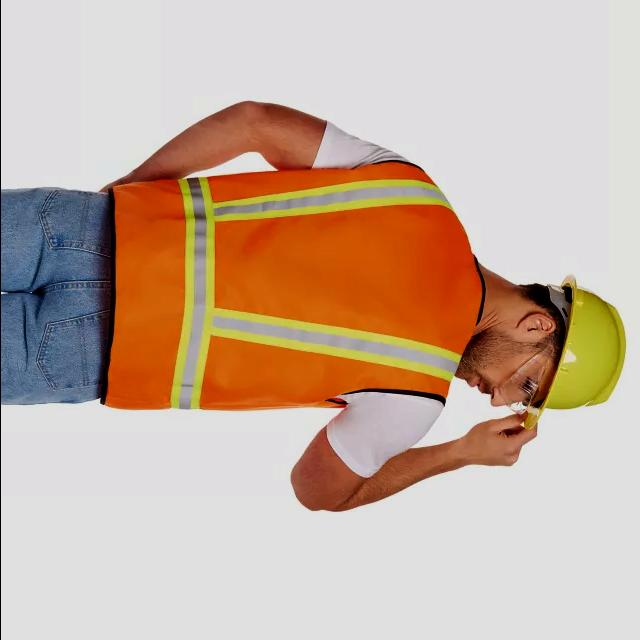Hard Hat: (518, 266, 634, 438)
Reflective Vest: (64, 133, 502, 409)
Safety Glasses: (496, 317, 553, 435)
